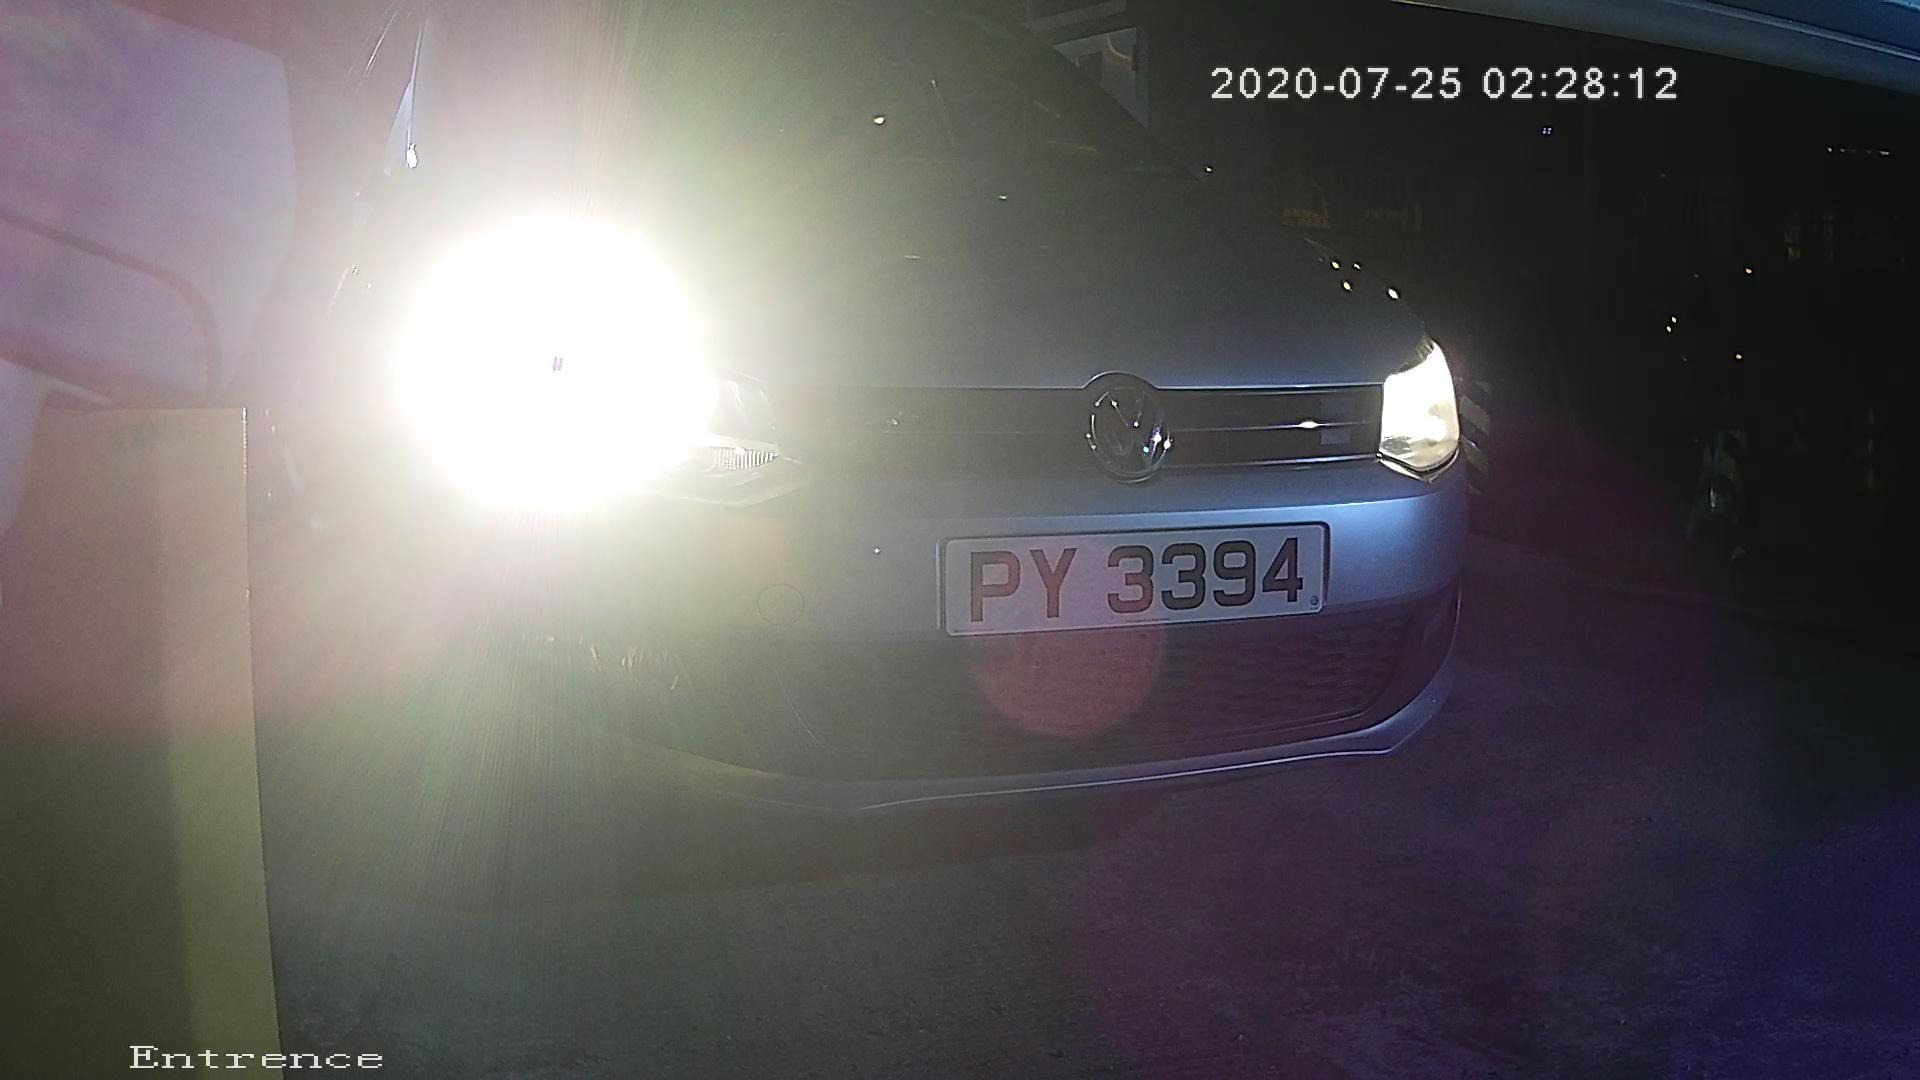Car: (61, 1, 1621, 883)
License Plate: (935, 492, 1346, 656)
